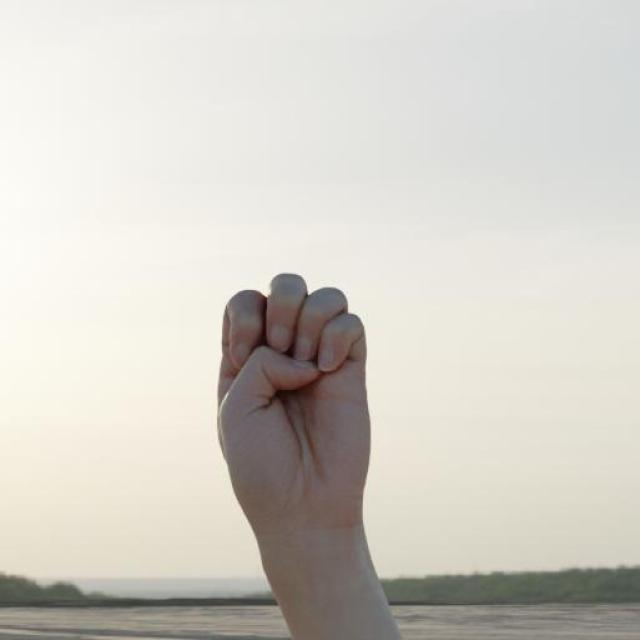E: (217, 270, 376, 515)
